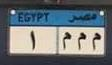1: (28, 30, 37, 51)
meem: (90, 32, 102, 53), (76, 31, 88, 52), (61, 31, 72, 52)
